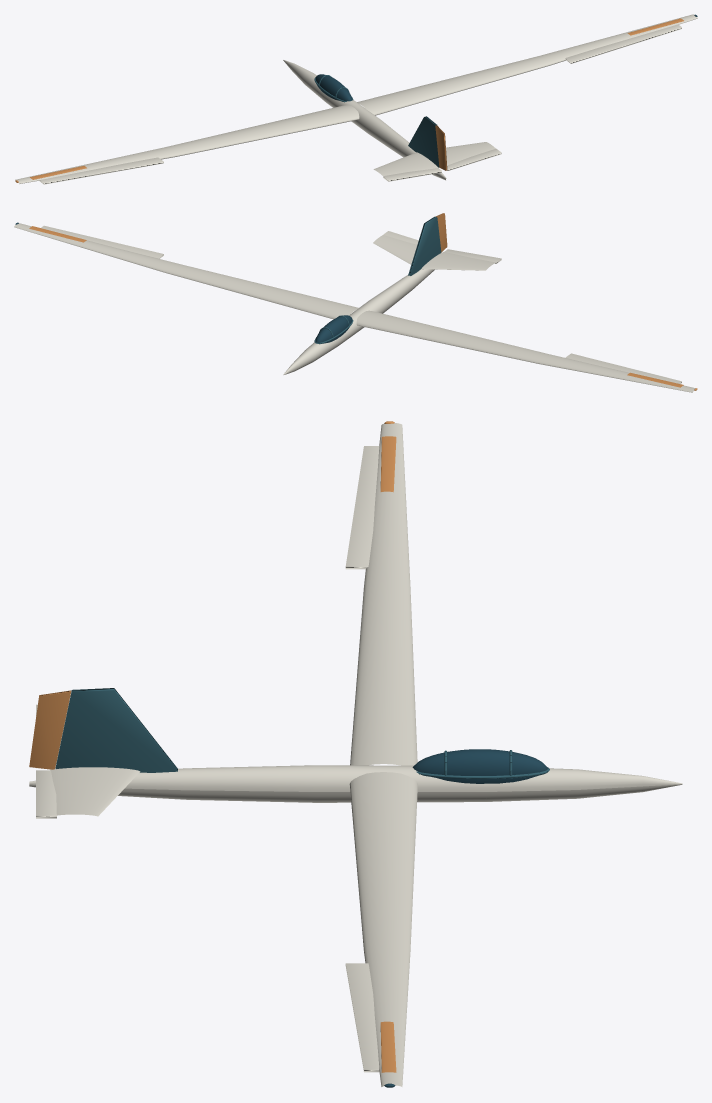
Rendered from player-whisper-hero-v1.glb.
The picture shows the model from 3 angles, top to bottom: view 1: azimuth 30°, elevation 25°; view 2: azimuth 150°, elevation 25°; view 3: azimuth 270°, elevation 25°; orthographic projection. The views are drawn at different scales.
Visible parts, largest first — view 1: hull, trim, aileron-right, aileron-left, glass, accent, elevator-right, rudder, elevator-left; view 2: hull, trim, aileron-right, aileron-left, glass, accent; view 3: hull, trim, glass, aileron-left, aileron-right, rudder, accent.
Part boxes in pixels (<box>): hull: <box>15,14,697,183</box>; trim: <box>314,75,439,167</box>; aileron-right: <box>565,24,681,63</box>; aileron-left: <box>39,157,163,184</box>; glass: <box>315,14,697,101</box>; accent: <box>15,18,683,182</box>; elevator-right: <box>447,148,501,170</box>; rudder: <box>435,125,447,170</box>; elevator-left: <box>383,168,441,181</box>; hull: <box>14,223,695,392</box>; trim: <box>314,216,441,344</box>; aileron-right: <box>41,225,163,258</box>; aileron-left: <box>565,353,681,383</box>; glass: <box>15,222,352,343</box>; accent: <box>29,226,697,390</box>; hull: <box>29,423,682,1086</box>; trim: <box>55,688,549,778</box>; glass: <box>384,749,547,1087</box>; aileron-left: <box>345,446,379,569</box>; aileron-right: <box>345,963,379,1072</box>; rudder: <box>29,690,71,769</box>; accent: <box>380,421,396,1072</box>.
Bounding box in the file's own units: 19.26 × 1.51 × 8.
